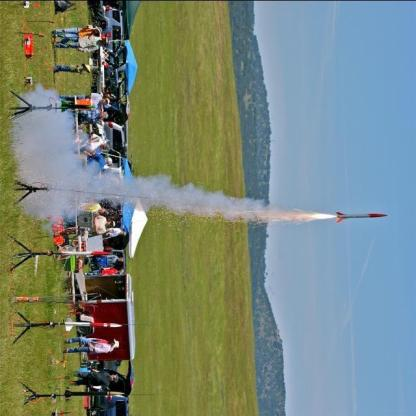MIL_TBM: (65, 318, 122, 332), (336, 210, 387, 224), (60, 247, 110, 260), (63, 388, 125, 398), (62, 98, 96, 113)
